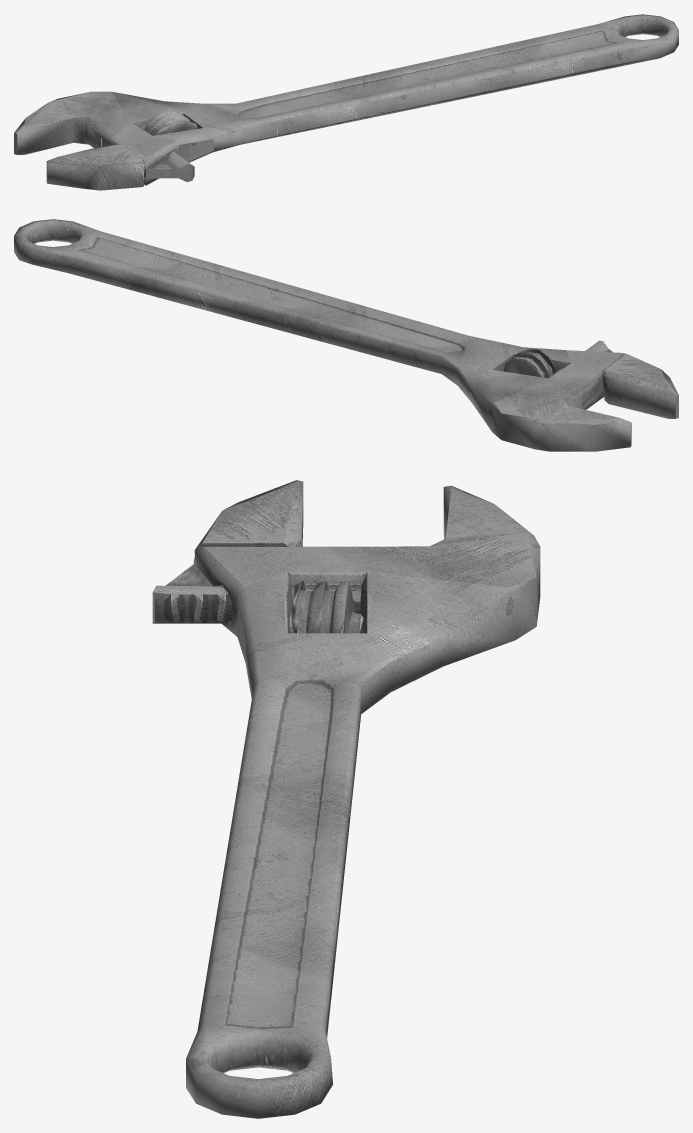
File: Wrench03.FBX
3 views of the same model, one above another, from view 1: azimuth 30°, elevation 25°; view 2: azimuth 150°, elevation 25°; view 3: azimuth 270°, elevation 25° (orthographic). The views are drawn at different scales.
Parts seen in each view (by area): view 1: Wrench03_LOD1; view 2: Wrench03_LOD1; view 3: Wrench03_LOD1.
Part boxes in pixels (x1,y1,x2,y2): Wrench03_LOD1: (14, 14, 678, 190); Wrench03_LOD1: (14, 219, 678, 451); Wrench03_LOD1: (152, 480, 540, 1118).
Size of the model in its own units: 25.39 by 1.75 by 6.91.
